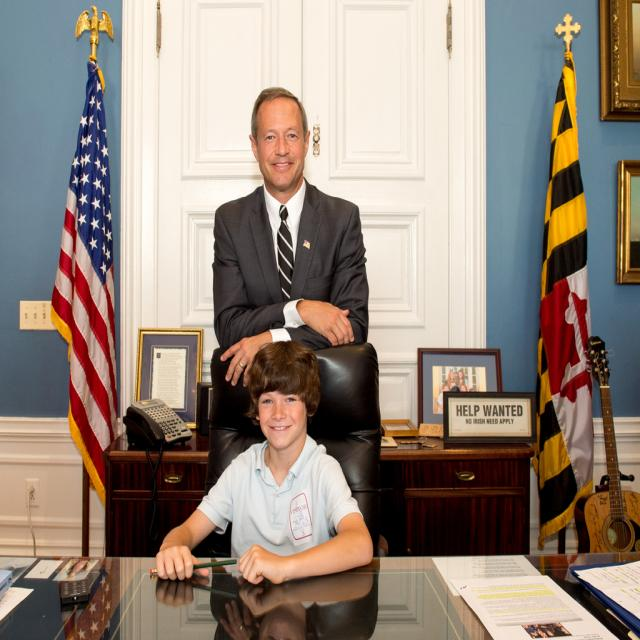desk: (0, 549, 639, 639)
person: (205, 88, 372, 499), (152, 340, 380, 639)
